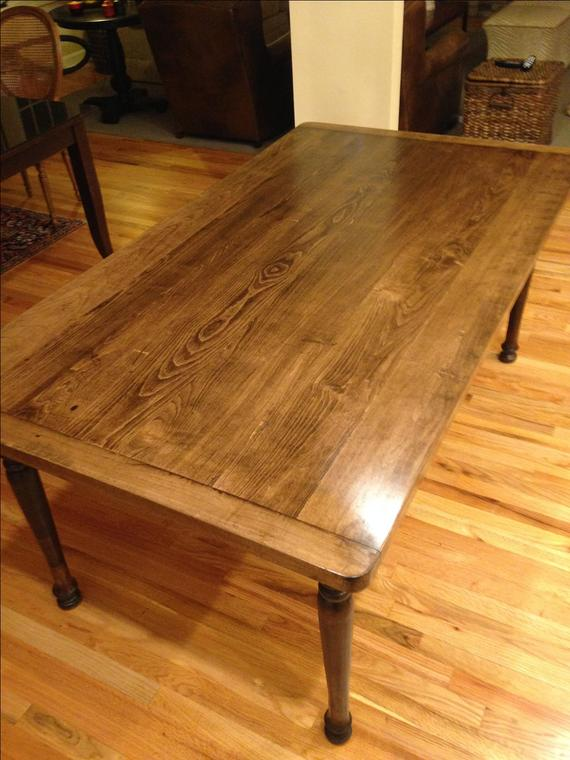table: (1, 114, 570, 751)
